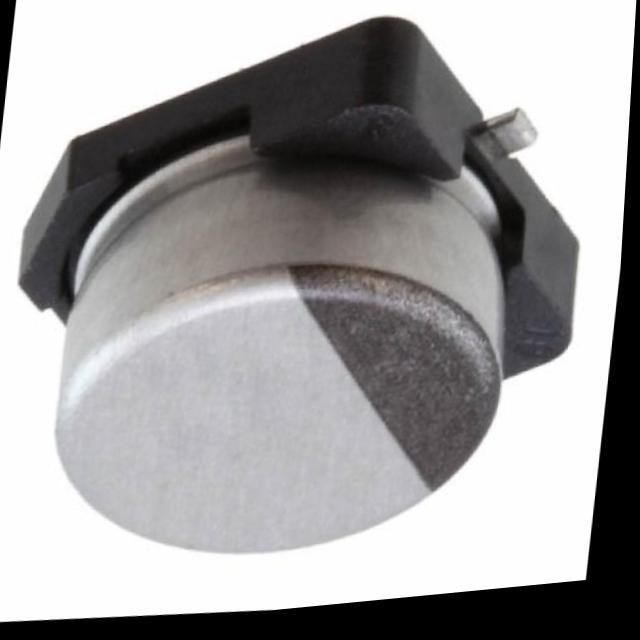Capacitor: (12, 111, 536, 594)
